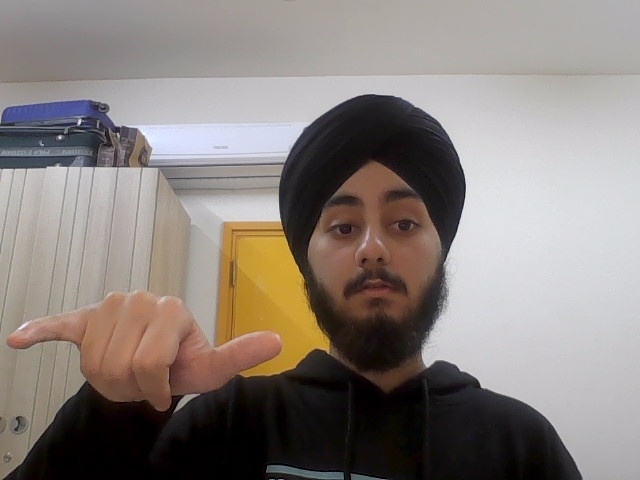Same: (3, 287, 286, 411)
